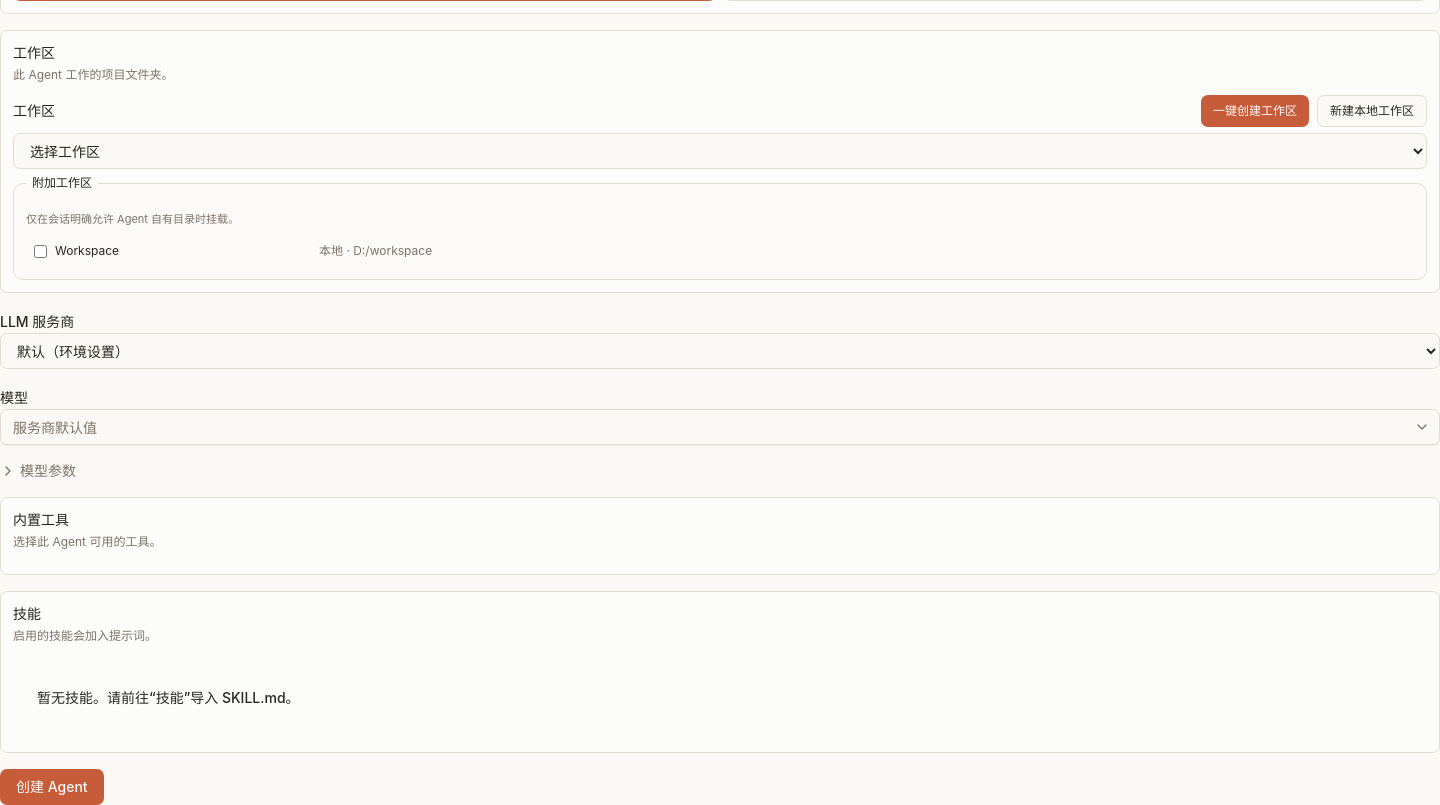
Scenario: agent runtime capabilities › renders translated agent fields, runtime choices, and validation errors
(page scrolled)
Click the button "创建 Agent" at (52, 787), box [0,769,104,804]
(page scrolled)
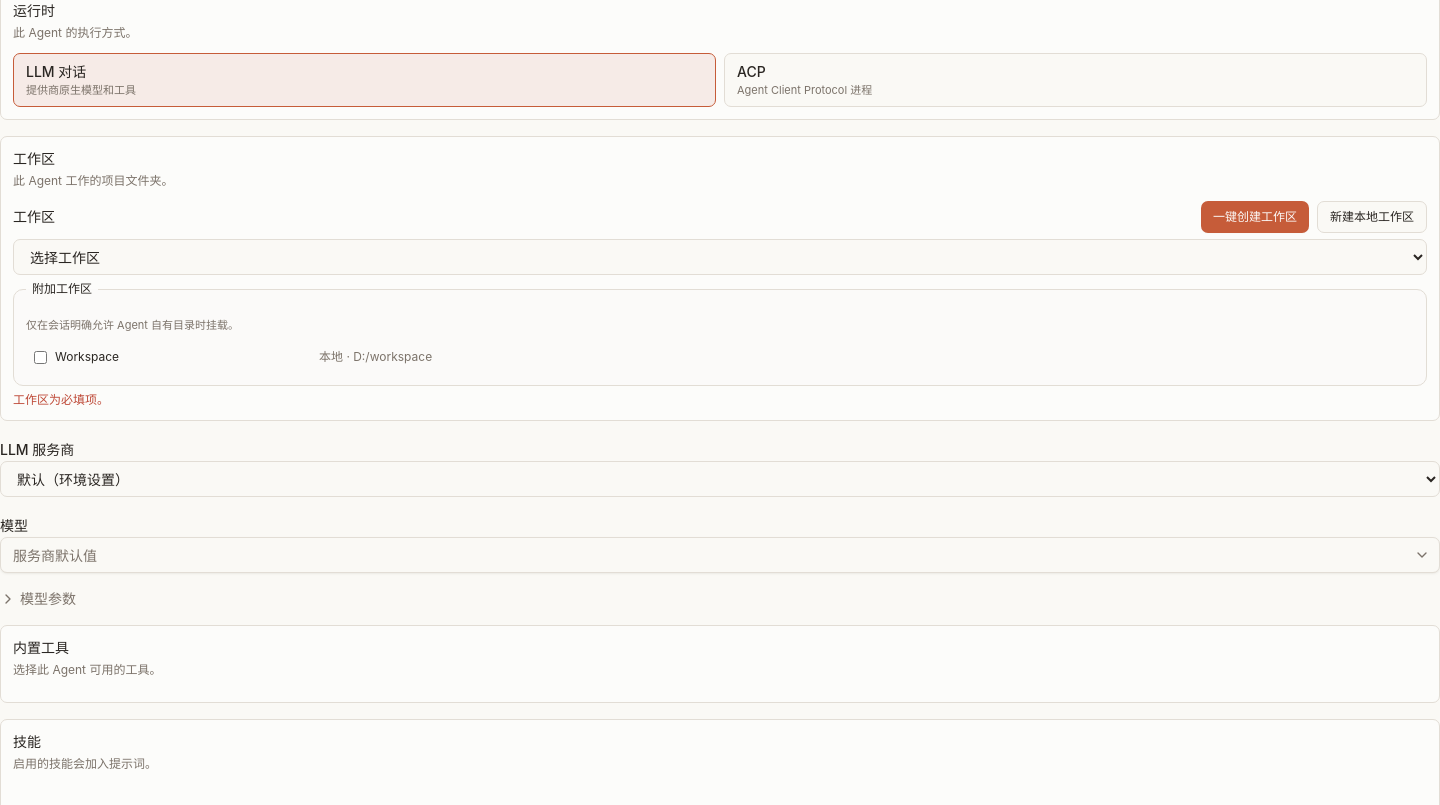
Now the text "工作区为必填项。" is shown, box [13,392,109,407]
